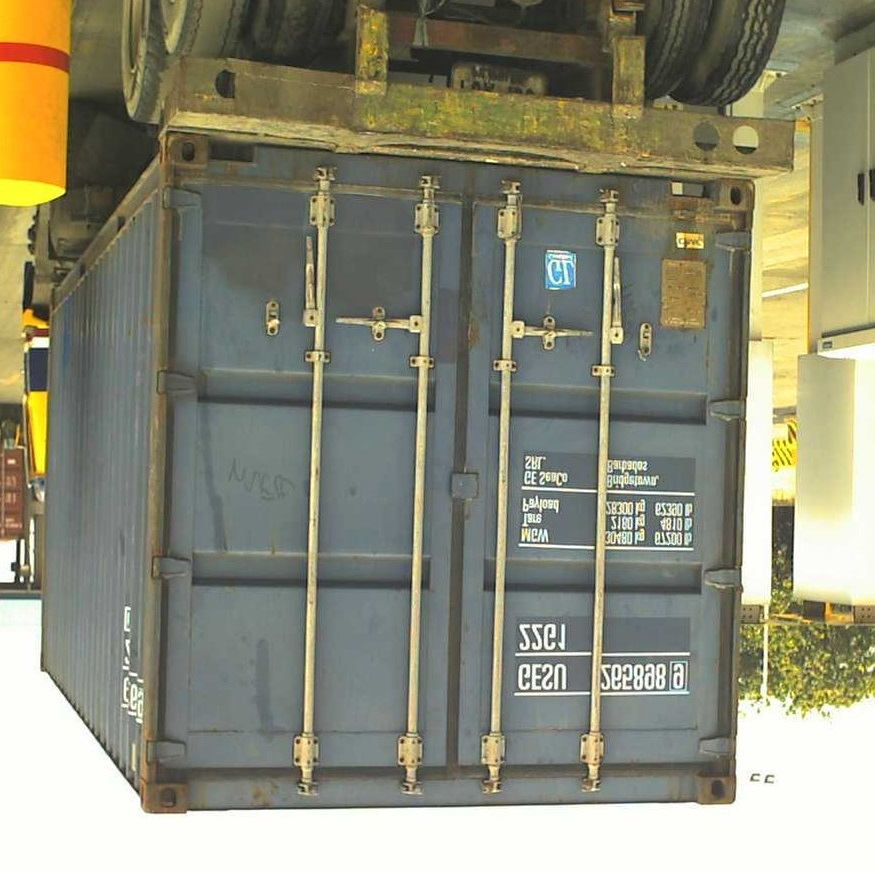container_door: (141, 140, 759, 811)
